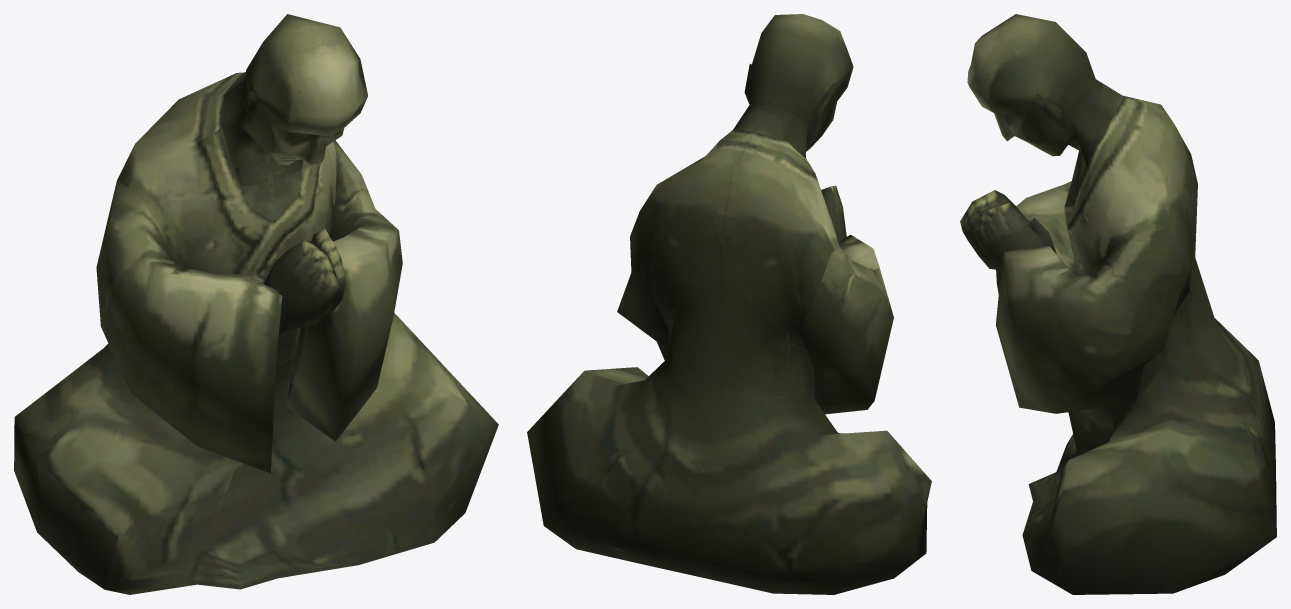
Rendered from environment_common_diaoxiang_001_a.FBX.
The picture shows the model from 3 angles, left to right: view 1: azimuth 30°, elevation 25°; view 2: azimuth 150°, elevation 25°; view 3: azimuth 270°, elevation 25°; orthographic projection. The views are drawn at different scales.
Parts seen in each view (by area): view 1: environment_common_diaoxiang_001_a; view 2: environment_common_diaoxiang_001_a; view 3: environment_common_diaoxiang_001_a.
Boxes of the visible parts, x1,y1,x2,y2 form: environment_common_diaoxiang_001_a: [14, 14, 498, 594]; environment_common_diaoxiang_001_a: [527, 14, 931, 594]; environment_common_diaoxiang_001_a: [960, 14, 1276, 594].
Size of the model in its own units: 188 by 236 by 137.
Materials: 1 (1 with a texture image).
